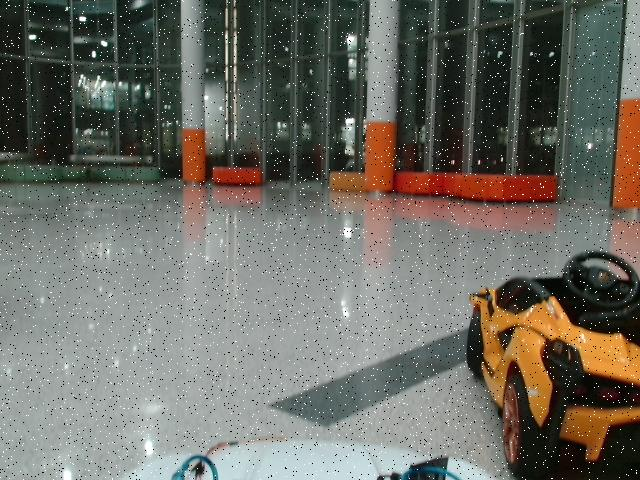car: (467, 251, 640, 480)
